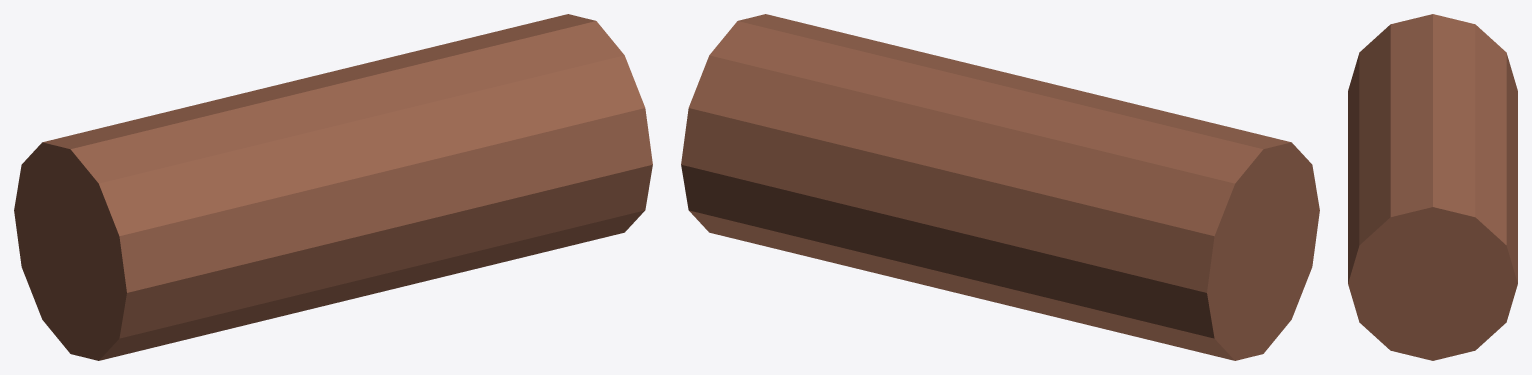
The model's file is Wh_Heatpipe_Straight.fbx.
3 views of the same model, side by side, from view 1: azimuth 30°, elevation 25°; view 2: azimuth 150°, elevation 25°; view 3: azimuth 270°, elevation 25° (orthographic). The views are drawn at different scales.
Parts seen in each view (by area): view 1: Cylinder.004; view 2: Cylinder.004; view 3: Cylinder.004.
Boxes of the visible parts, x1=… form: Cylinder.004: x1=14, y1=14, x2=652, y2=360; Cylinder.004: x1=681, y1=14, x2=1319, y2=360; Cylinder.004: x1=1348, y1=14, x2=1517, y2=360.
Size of the model in its own units: 200 by 74.4 by 74.4.
